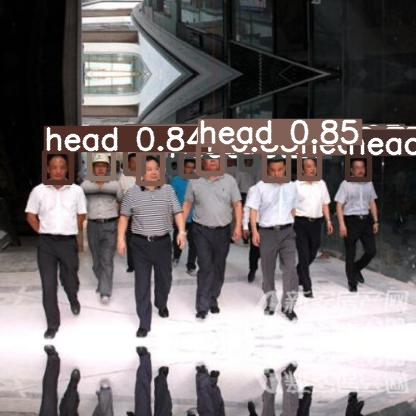head: (44, 151, 71, 182), (138, 152, 162, 183), (264, 151, 288, 180), (198, 144, 222, 173), (347, 155, 369, 179), (299, 154, 319, 178), (125, 149, 143, 173), (181, 154, 198, 176), (241, 149, 256, 169), (224, 151, 239, 169), (168, 158, 179, 172)
helmet: (89, 150, 113, 178)
